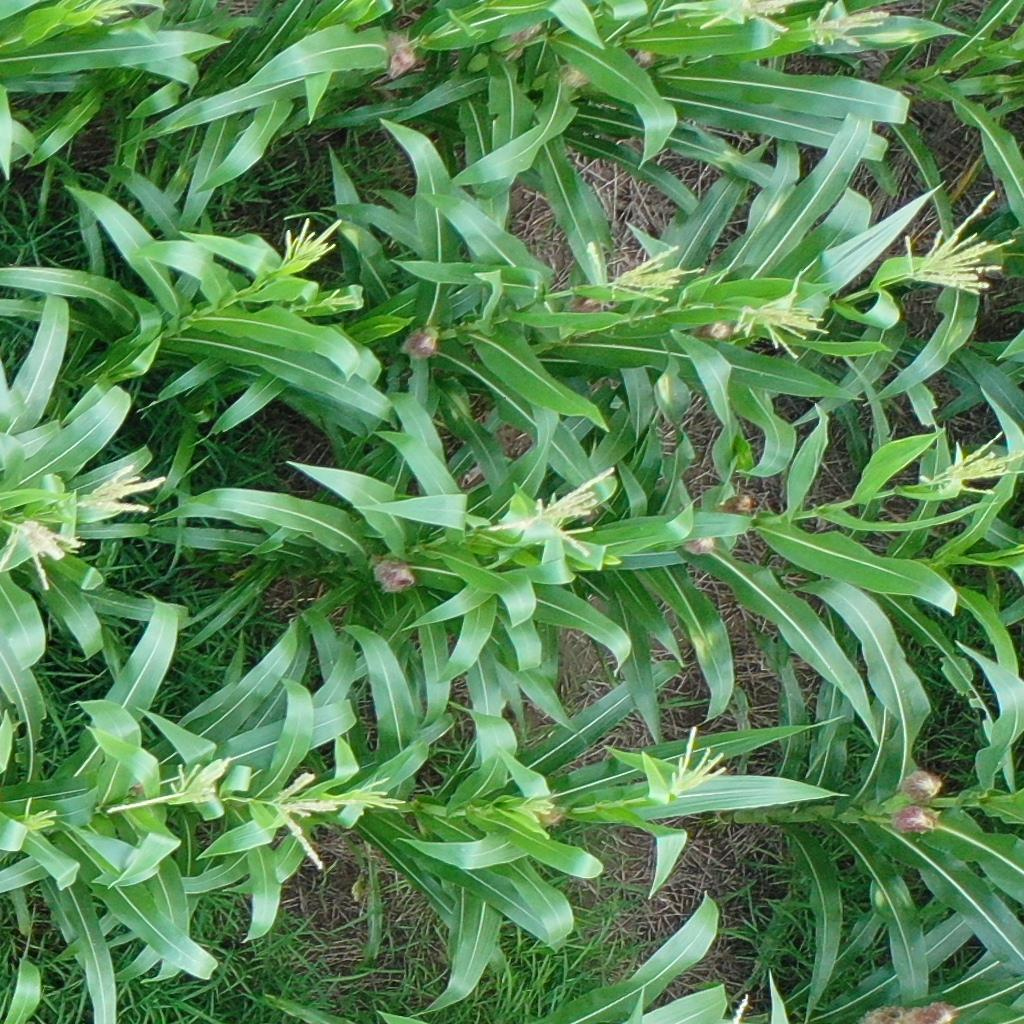Tassel: (901, 184, 1014, 299), (526, 465, 619, 557), (734, 273, 829, 361), (586, 238, 704, 305), (916, 428, 1024, 495), (270, 770, 339, 874), (72, 460, 170, 520), (1, 520, 83, 591), (665, 723, 729, 803), (698, 1, 798, 42), (803, 1, 882, 49), (161, 760, 229, 808), (282, 213, 344, 264), (336, 775, 407, 814), (61, 1, 136, 33), (20, 796, 67, 838), (514, 792, 557, 827), (321, 286, 364, 315)
